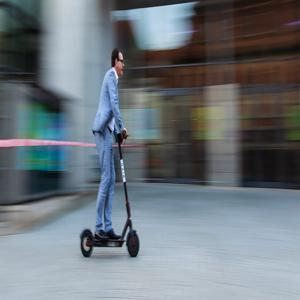human on a scooter: (79, 48, 140, 259)
